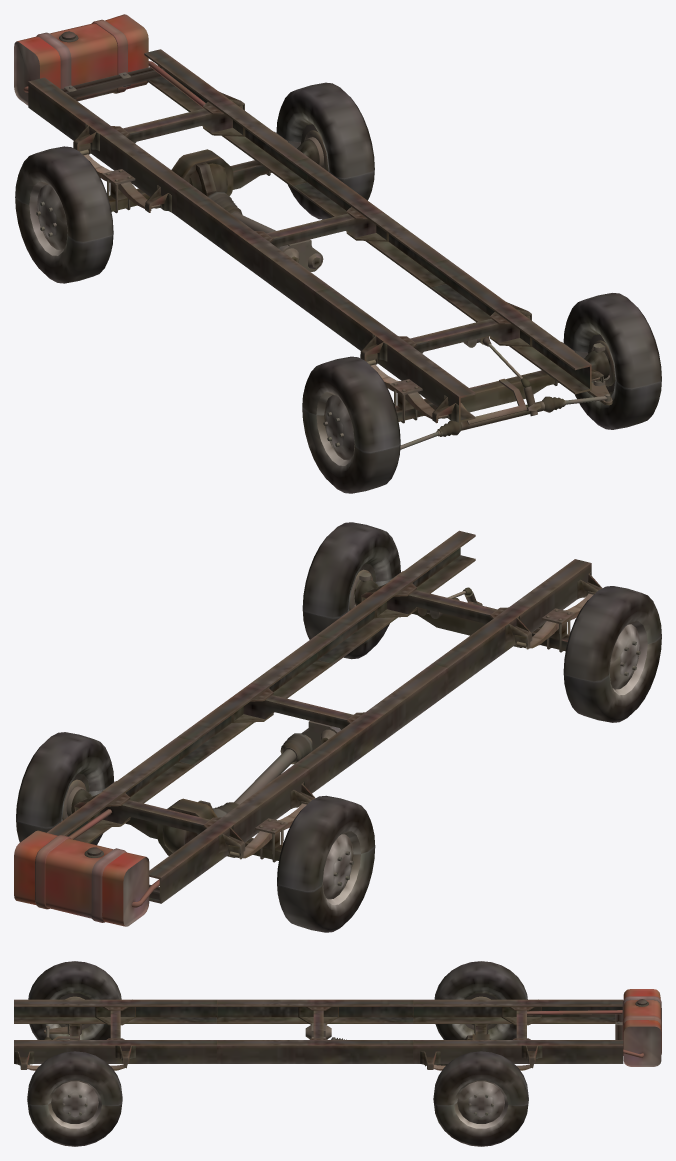
Rendered from car_3mod_10.glb.
3 views of the same model, one above another, from view 1: azimuth 30°, elevation 25°; view 2: azimuth 150°, elevation 25°; view 3: azimuth 270°, elevation 25° (orthographic). The views are drawn at different scales.
Visible parts, largest first — view 1: LOD0 (×10); view 2: LOD0 (×9); view 3: LOD0 (×10).
Part boxes in pixels (x1,y1,x2,y2): LOD0 (×10): [14, 14, 661, 493]; LOD0 (×9): [14, 522, 661, 932]; LOD0 (×10): [14, 961, 661, 1146].
Bounding box in the file's own units: 1.81 × 0.7536 × 4.79.
Materials: 1 (1 with a texture image).
